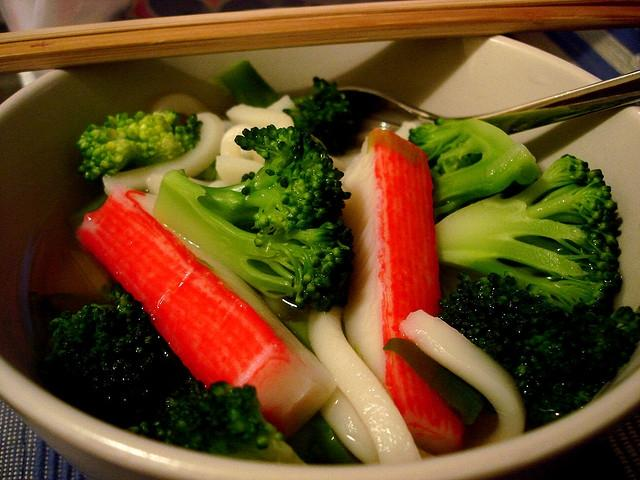broccoli: (48, 282, 309, 465), (152, 123, 356, 312), (438, 273, 640, 434), (435, 152, 624, 317), (216, 60, 368, 156), (408, 118, 540, 217), (75, 109, 203, 181)
